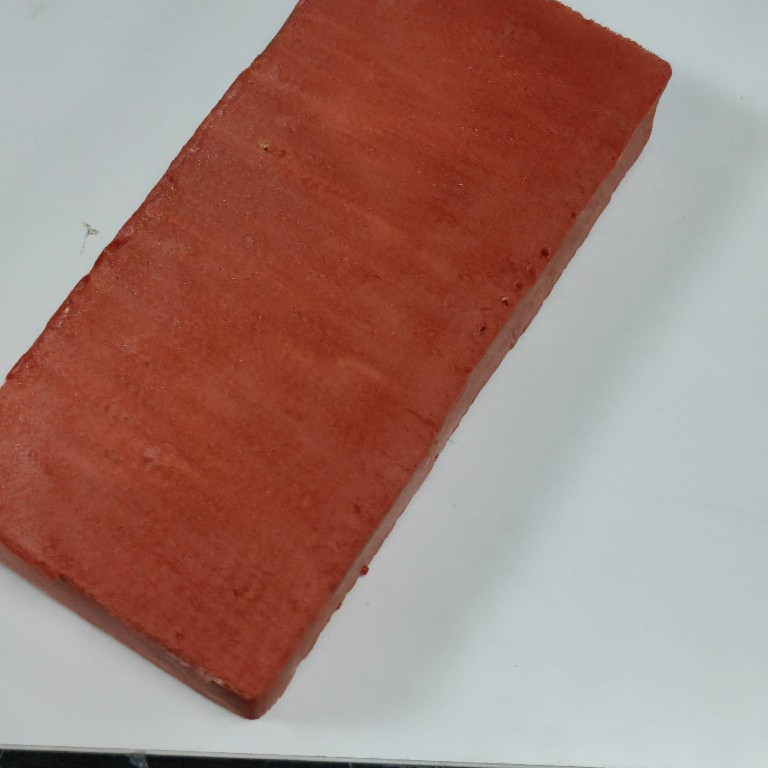brick: (1, 2, 689, 725)
